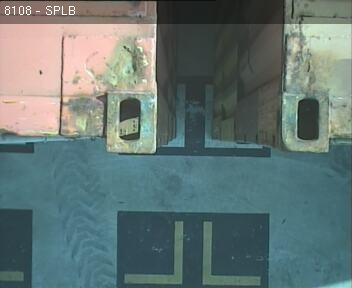groundmarker_1: (121, 222, 260, 284), (164, 85, 262, 148)
